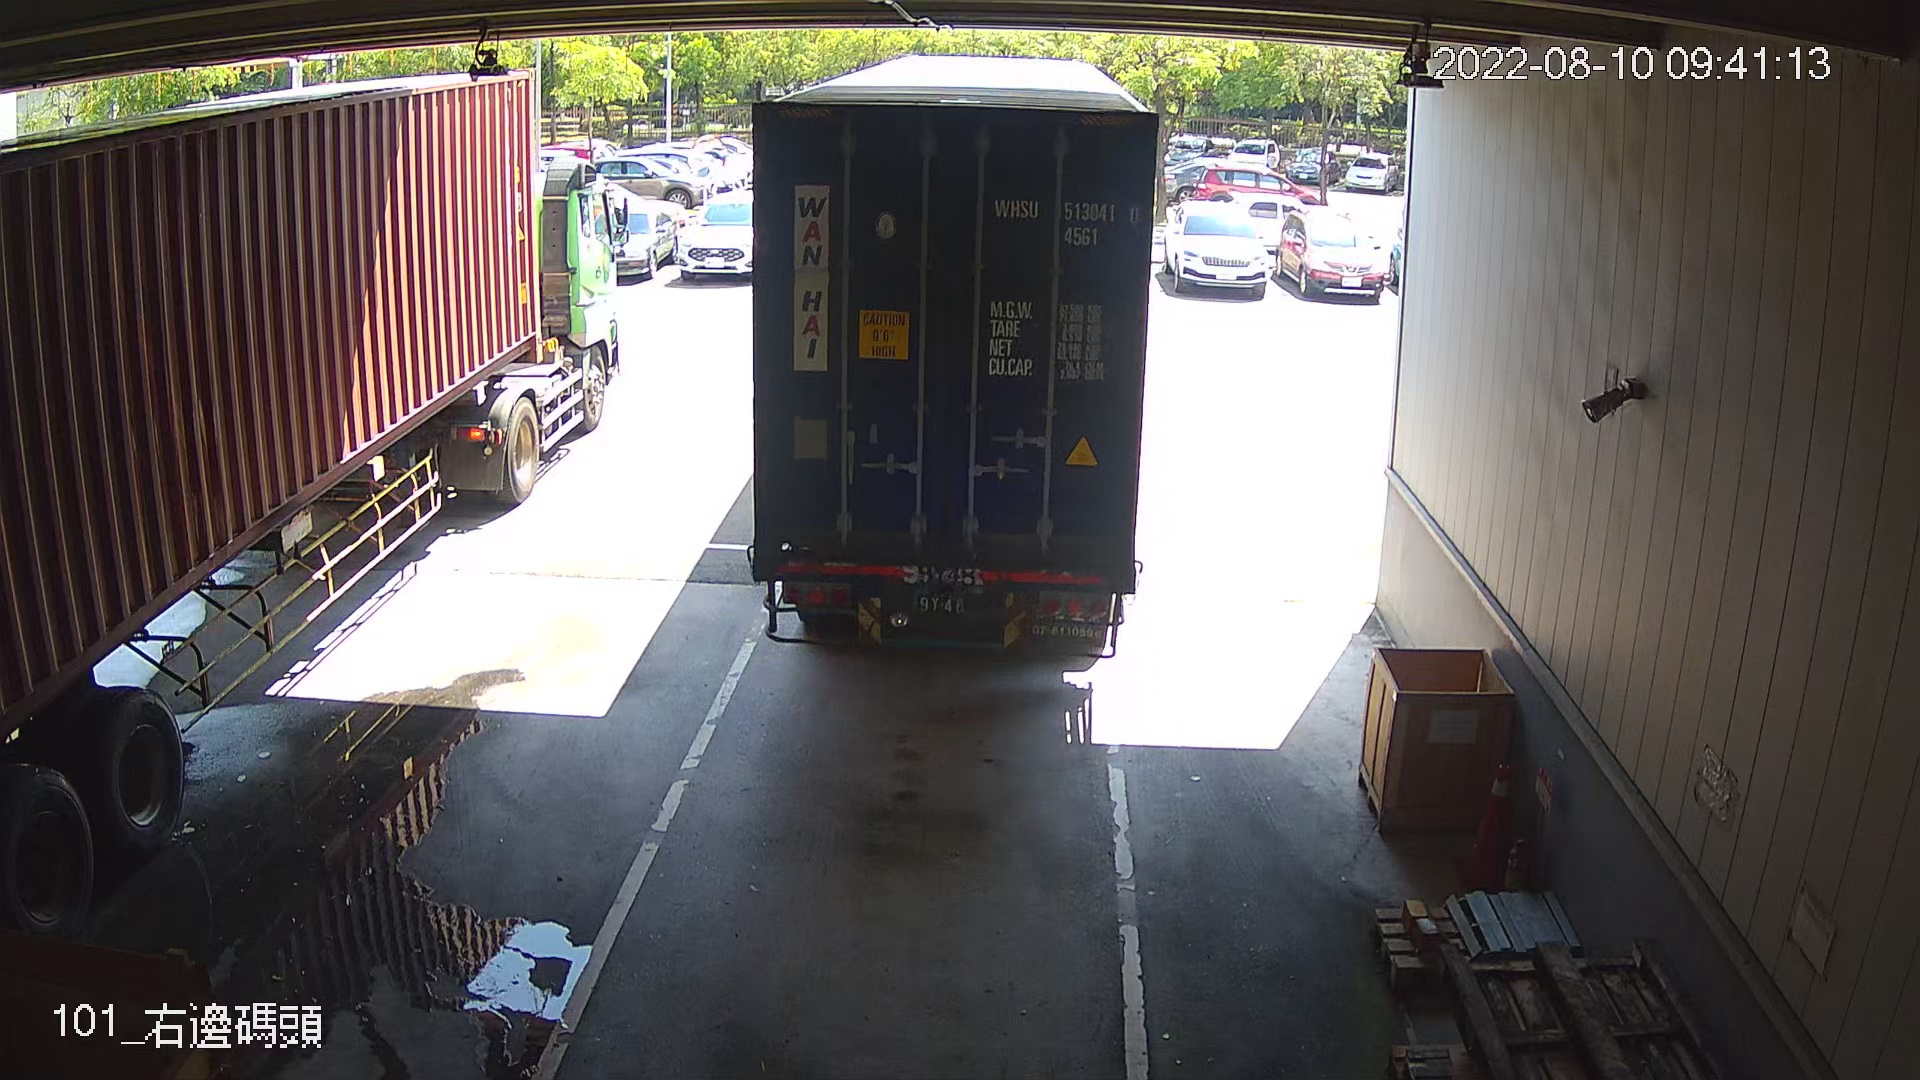container: (988, 189, 1145, 255)
